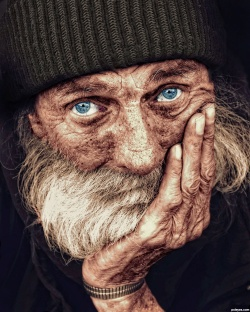Forehead: (53, 70, 199, 92)
